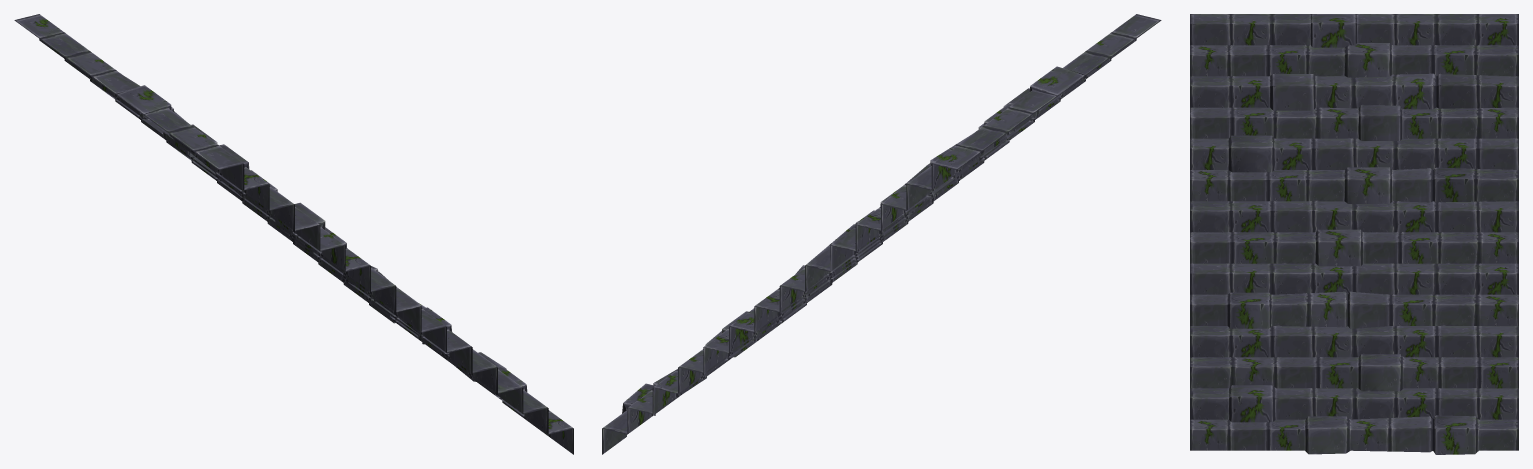
Rendered from MOD_Stairs_01_E_straight_1.fbx.
The picture shows the model from 3 angles, left to right: view 1: azimuth 30°, elevation 25°; view 2: azimuth 150°, elevation 25°; view 3: azimuth 270°, elevation 25°; orthographic projection. The views are drawn at different scales.
Visible parts, largest first — view 1: MOD_Stairs_01_E_straight_1; view 2: MOD_Stairs_01_E_straight_1; view 3: MOD_Stairs_01_E_straight_1.
Boxes of the visible parts, x1,y1,x2,y2 form: MOD_Stairs_01_E_straight_1: [14, 14, 573, 454]; MOD_Stairs_01_E_straight_1: [602, 14, 1161, 454]; MOD_Stairs_01_E_straight_1: [1190, 14, 1518, 454].
Size of the model in its own units: 412 by 403 by 400.
